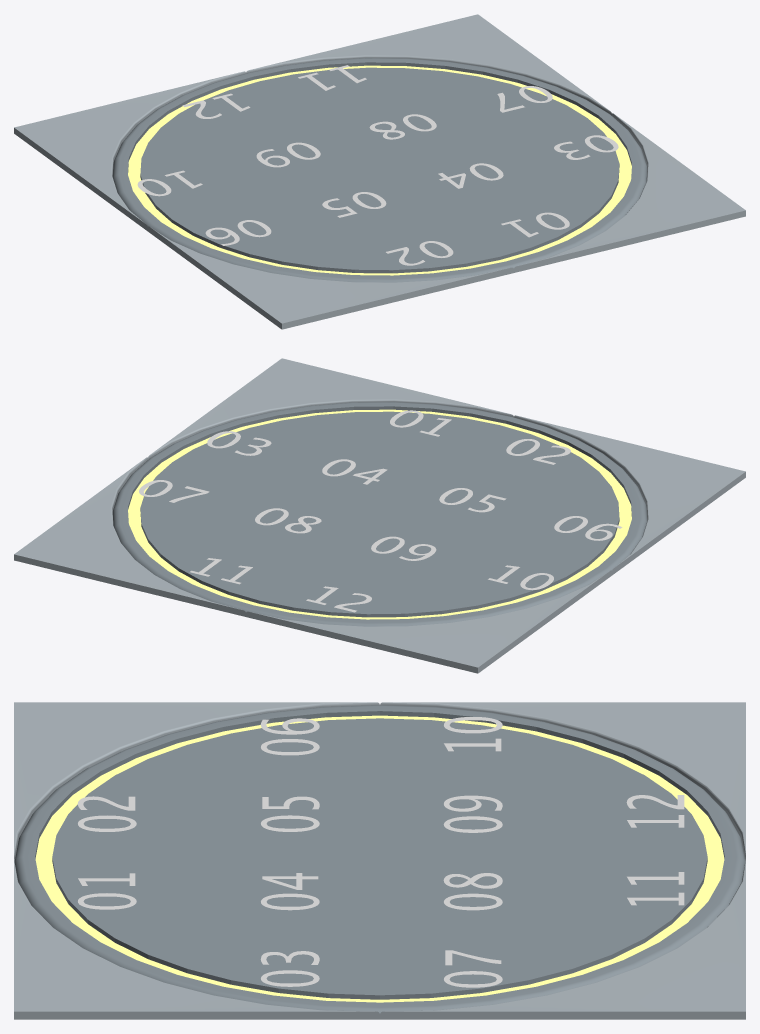
File: Parking_Rotation_Platform.fbx
The picture shows the model from 3 angles, top to bottom: view 1: azimuth 30°, elevation 25°; view 2: azimuth 150°, elevation 25°; view 3: azimuth 270°, elevation 25°; orthographic projection. The views are drawn at different scales.
Parts seen in each view (by area): view 1: Rotation_Platform, Rotation_Platform_Boarder, Rotator_Coordinates; view 2: Rotation_Platform, Rotation_Platform_Boarder, Rotator_Coordinates; view 3: Rotation_Platform, Rotation_Platform_Boarder, Rotator_Coordinates.
Part boxes in pixels (bbox=[...]): Rotation_Platform: bbox=[112, 58, 647, 282]; Rotation_Platform_Boarder: bbox=[14, 14, 745, 329]; Rotator_Coordinates: bbox=[137, 65, 618, 265]; Rotation_Platform: bbox=[112, 402, 647, 626]; Rotation_Platform_Boarder: bbox=[14, 358, 745, 673]; Rotator_Coordinates: bbox=[139, 410, 622, 612]; Rotation_Platform: bbox=[14, 705, 745, 1013]; Rotation_Platform_Boarder: bbox=[14, 702, 745, 1019]; Rotator_Coordinates: bbox=[77, 717, 684, 987].
Size of the model in its own units: 400 by 7.5 by 400.
